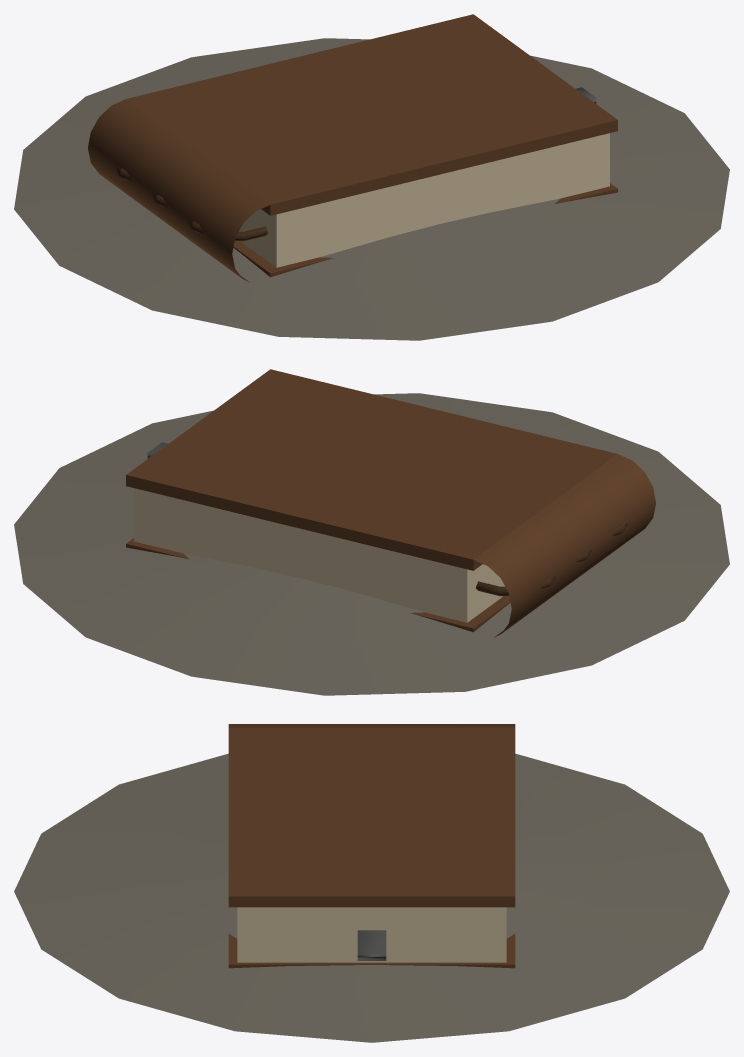
The model's file is atlas-diary.glb.
3 renders of one model, top to bottom at view 1: azimuth 30°, elevation 25°; view 2: azimuth 150°, elevation 25°; view 3: azimuth 270°, elevation 25°, orthographic.
Visible parts, largest first — view 1: atlas-diary; view 2: atlas-diary; view 3: atlas-diary.
Part boxes in pixels (box(x1,y1,x2,y2)): atlas-diary: box(14, 14, 729, 340); atlas-diary: box(14, 369, 729, 695); atlas-diary: box(14, 724, 729, 1042).
Bounding box in the file's own units: 0.54 × 0.066 × 0.54.
